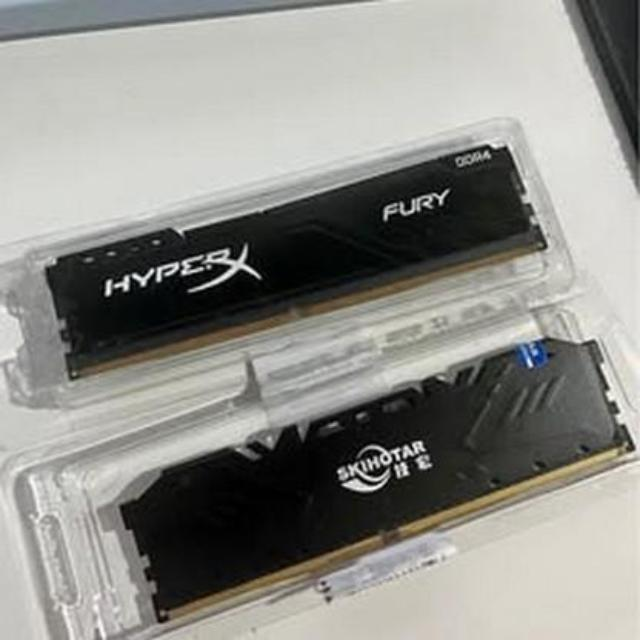RAM: (114, 332, 638, 636), (43, 133, 551, 384)
